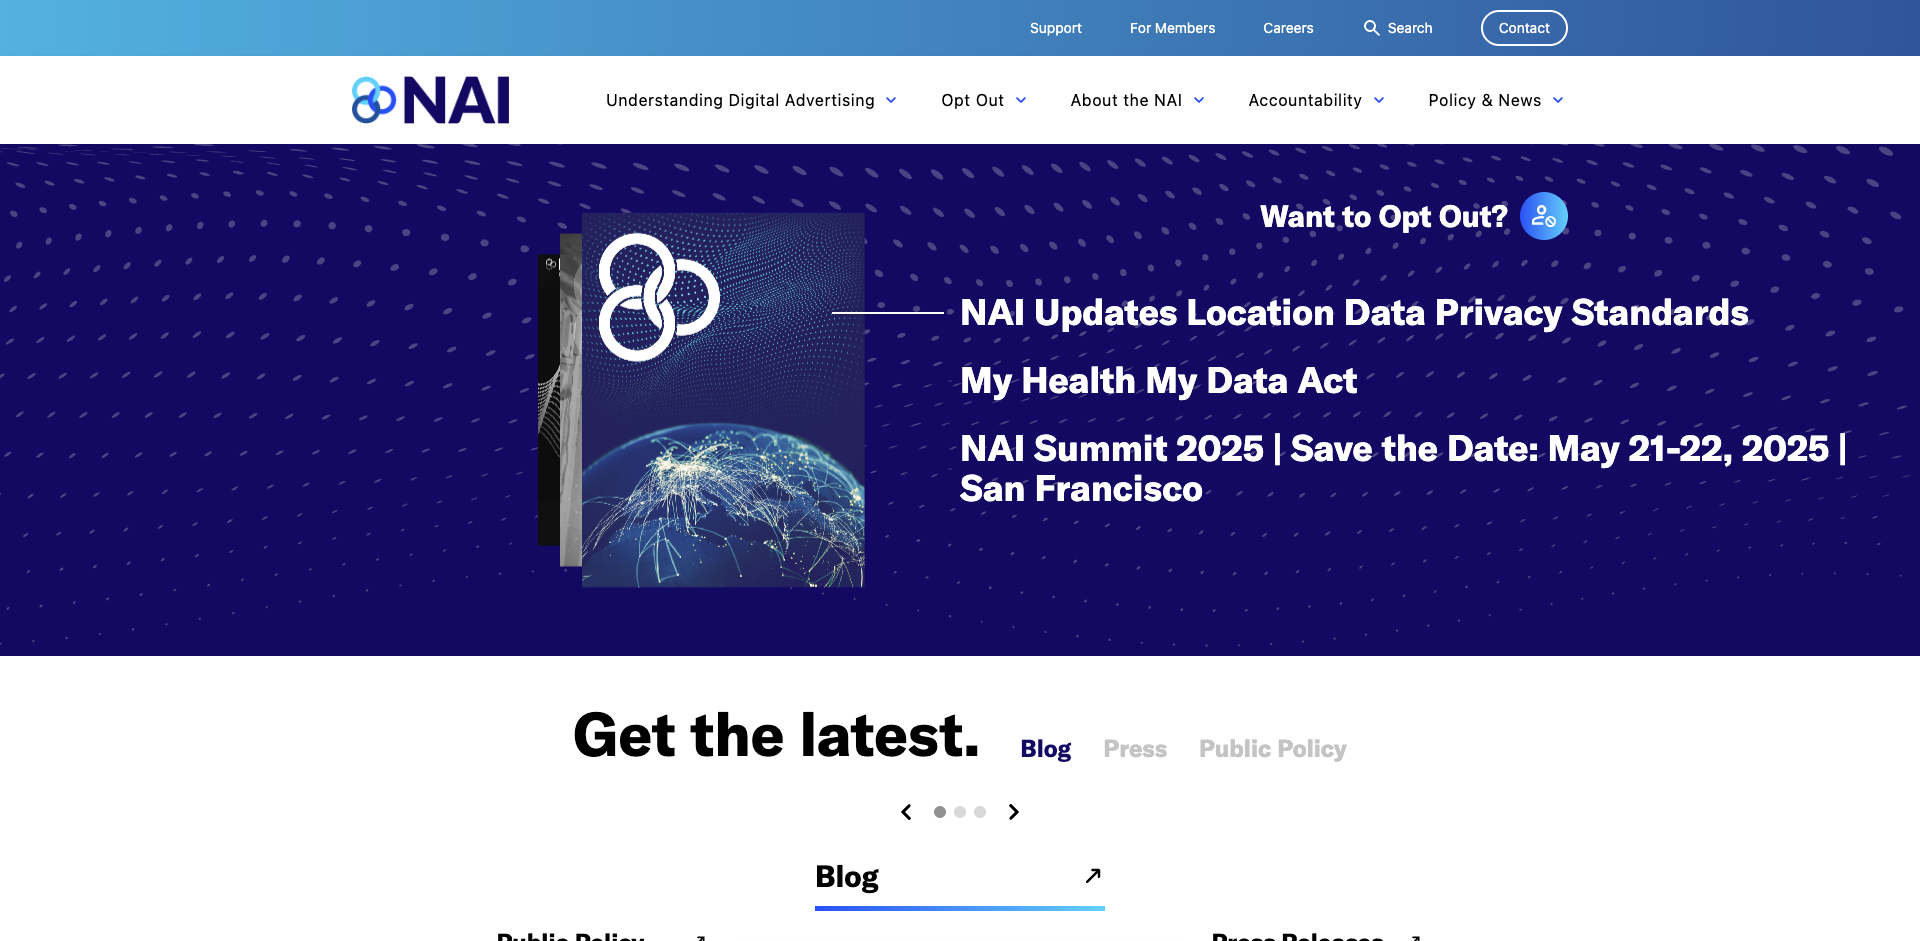button: (1260, 168, 1567, 240), (1199, 731, 1347, 765), (1103, 731, 1167, 765), (1020, 731, 1071, 765), (934, 806, 947, 818), (954, 806, 966, 818), (973, 806, 986, 818)
link: (960, 428, 1920, 508), (960, 292, 1920, 332), (960, 360, 1920, 399), (566, 56, 901, 145), (816, 845, 1104, 912), (1209, 56, 1389, 145), (1389, 56, 1569, 145), (1031, 56, 1209, 145), (901, 56, 1031, 145), (351, 76, 509, 124), (496, 918, 709, 941), (1211, 918, 1424, 941), (1480, 10, 1569, 47), (1130, 18, 1216, 38), (1362, 18, 1433, 38), (1030, 18, 1082, 38), (1264, 18, 1314, 38)
